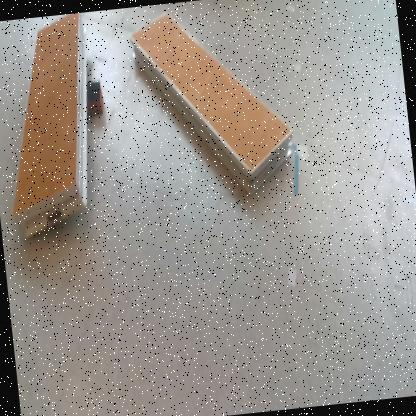Stairs: (129, 8, 295, 197), (10, 13, 88, 247)
